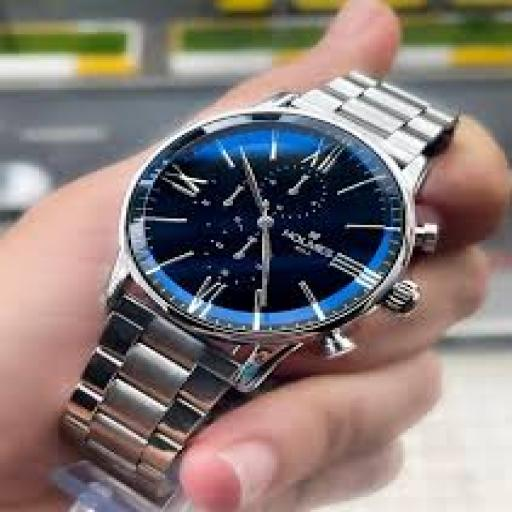KolSaati: (37, 23, 481, 508)
